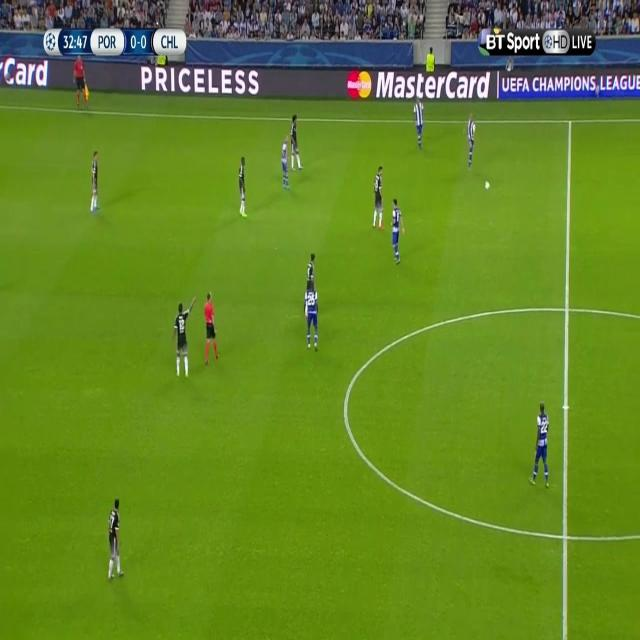Ball: (484, 180, 491, 192)
Player: (528, 398, 552, 494), (171, 294, 196, 379), (104, 494, 125, 584), (390, 196, 406, 268), (289, 112, 306, 177), (370, 162, 384, 235), (307, 276, 319, 357), (464, 111, 480, 169), (412, 96, 427, 152), (236, 154, 248, 223), (278, 134, 291, 192), (89, 149, 100, 217), (305, 252, 317, 282)
Referee: (203, 290, 220, 368), (72, 54, 90, 114)
